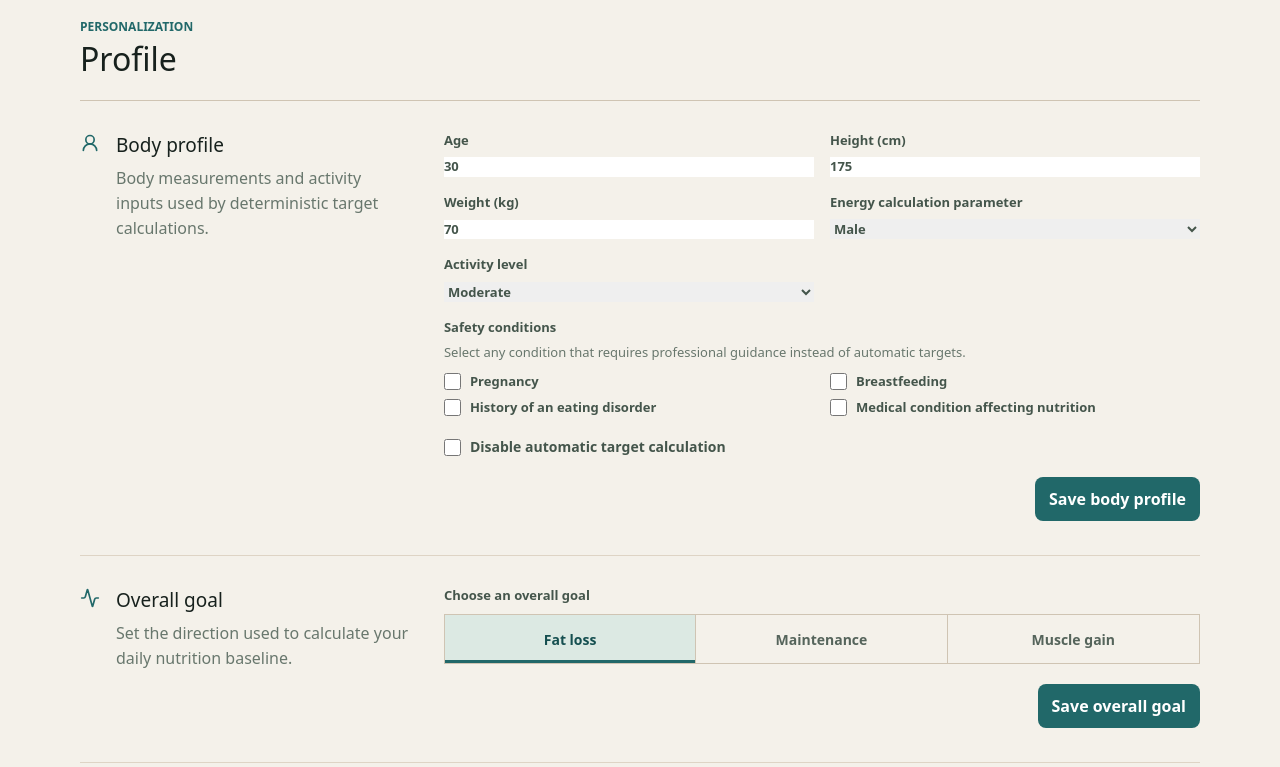
Test: Profile › shows recalculation preview after profile save without confirming it
Replace the text in the number field labelled "Weight (kg)" with "71" at (629, 229), box [444, 220, 814, 239]
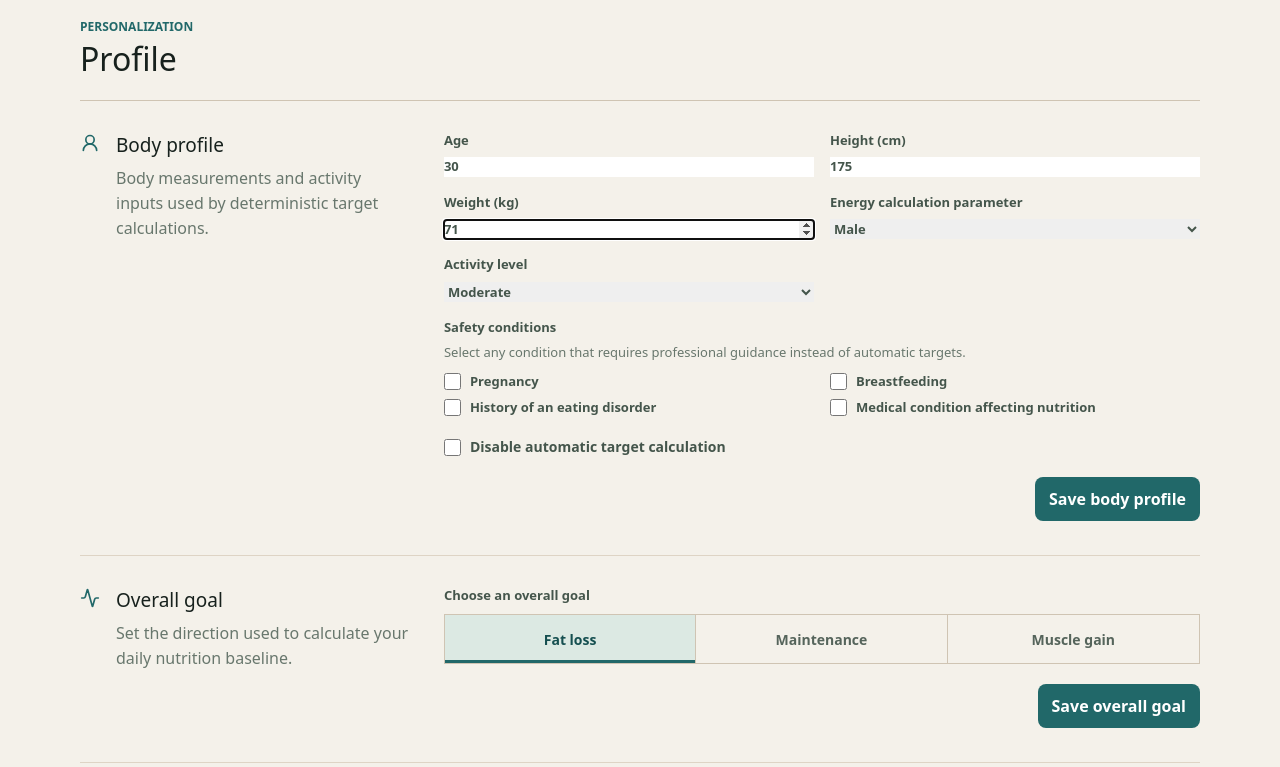
Click the button "Save body profile".
click(1118, 499)  # box [1035, 477, 1200, 521]
(page scrolled)
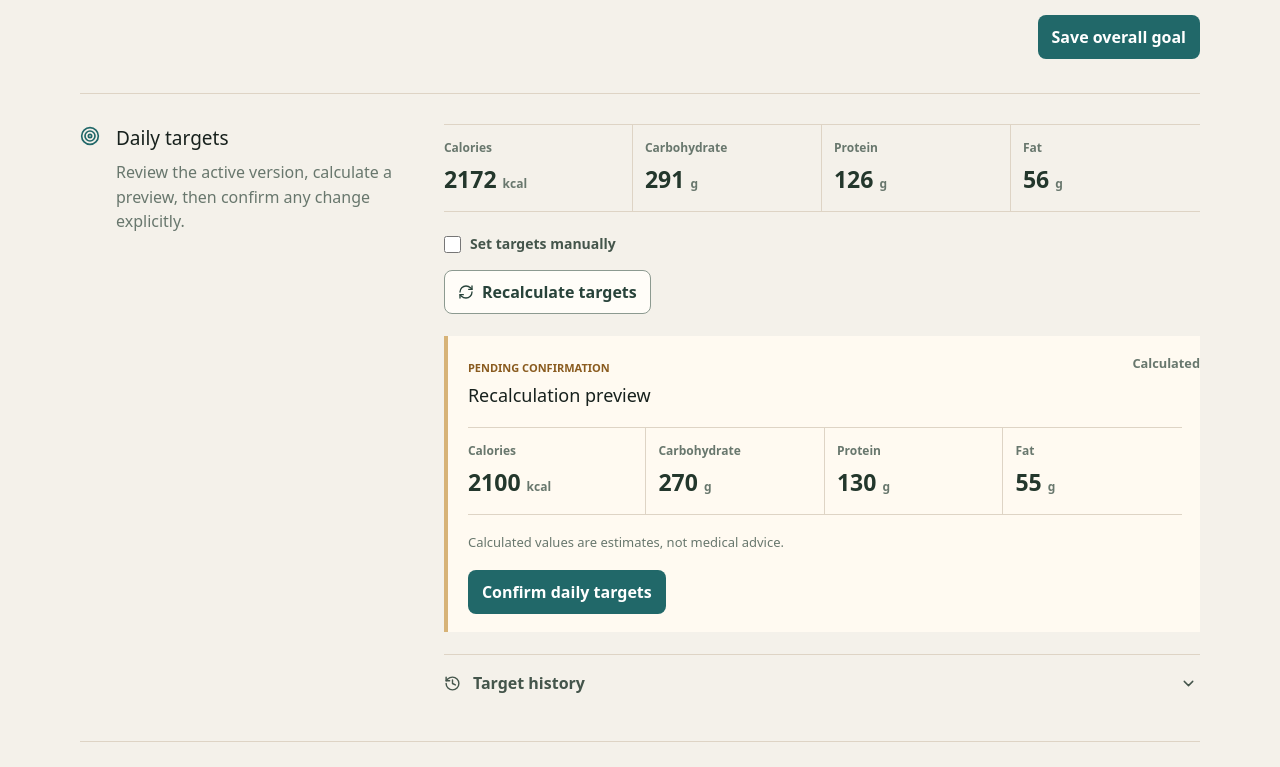
Now the text "Pending confirmation" is shown, box [468, 360, 610, 375]
